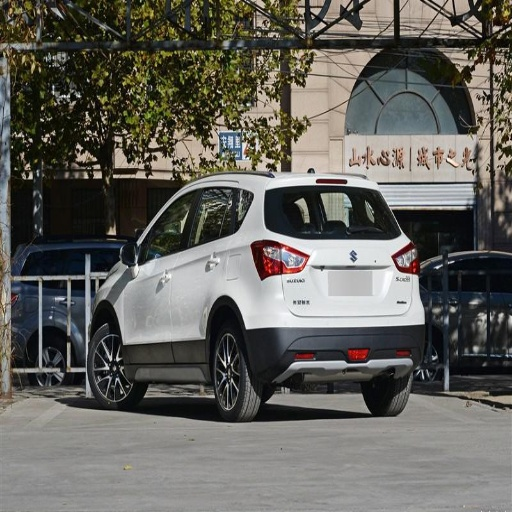back_bumper: (242, 279, 425, 381)
back_glass: (265, 186, 399, 239)
back_left_door: (172, 185, 230, 363)
tailgate: (282, 237, 399, 283)
trunk: (269, 240, 411, 317)
